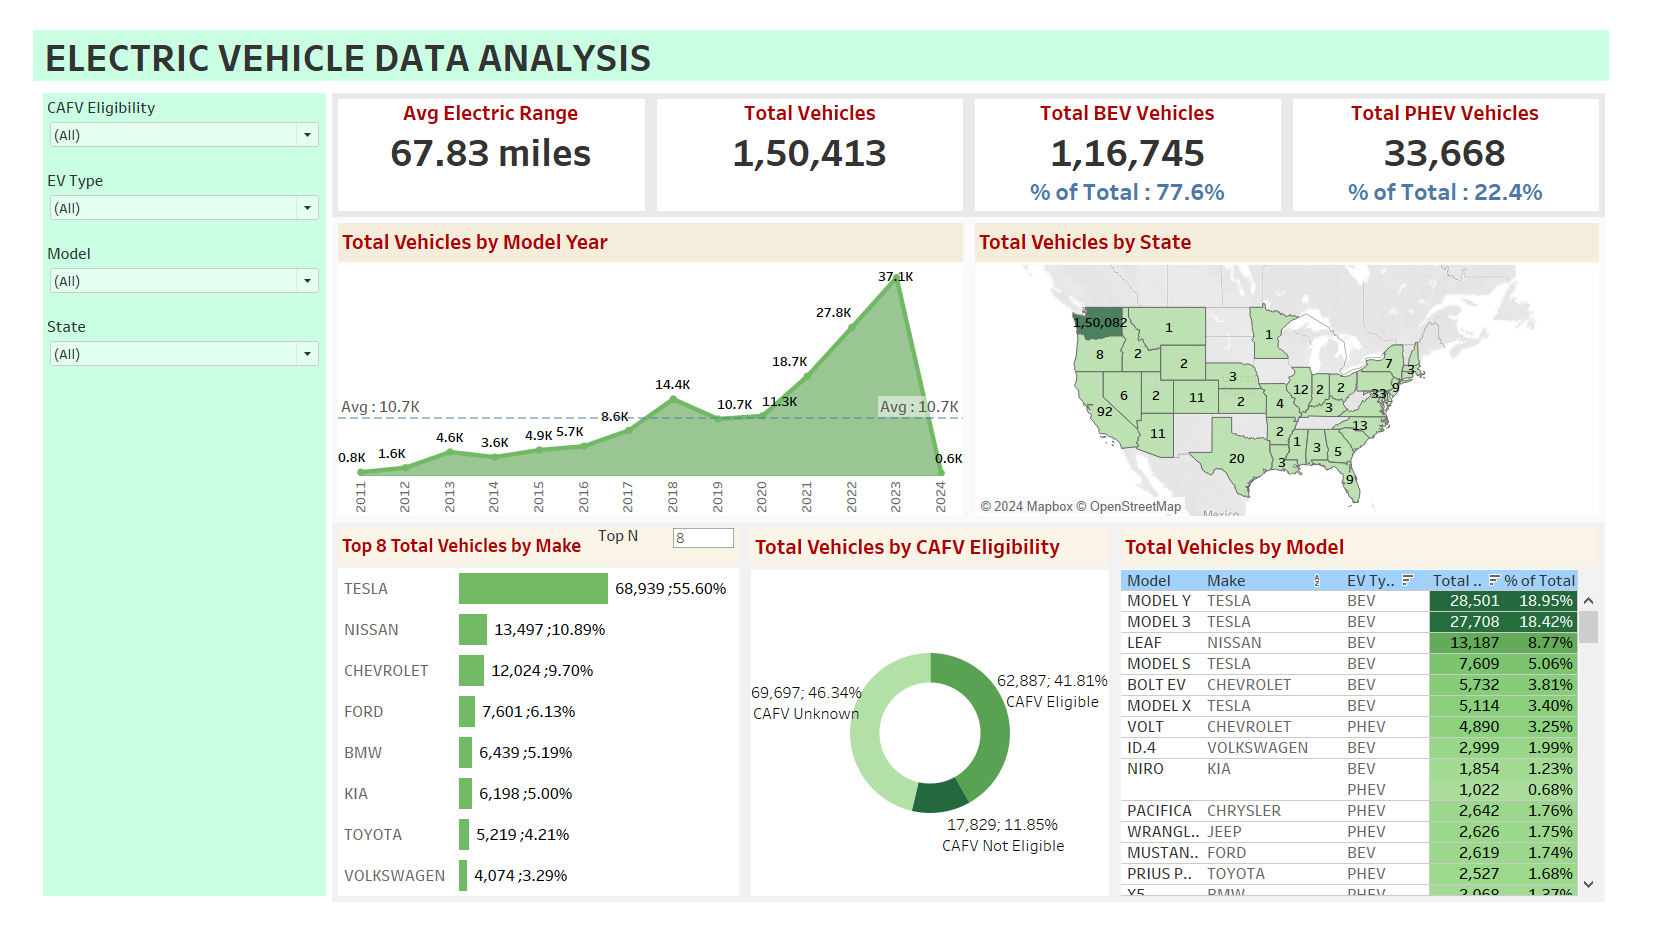

The page's visual inventory and layout, read from the dashboard file:
{"tool":"tableau","page":{"name":"Dashboard 1","canvas":[1600,900],"ordinal":0},"visuals":[{"type":"title","box":[8,8,1584,59.2]},{"type":"filter","title":"Total Vehicles by Model Year","param":"[federated.1awhdub1da7tum1af50ky1ltuime].[none:Clean Alternative Fuel Vehicle (C","box":[22,75,283,73]},{"type":"worksheet","title":"Avg Electric Range","mark":"Automatic","box":[311,75,319,124]},{"type":"worksheet","title":"Total Vehicles","mark":"Automatic","box":[630,75,318,124]},{"type":"worksheet","title":"Total BEV Vehicles","mark":"Automatic","box":[948,75,318,124]},{"type":"worksheet","title":"Total PHEV Vehicles","mark":"Automatic","box":[1266,75,318,124]},{"type":"filter","title":"Total Vehicles by Model Year","param":"[federated.1awhdub1da7tum1af50ky1ltuime].[none:Electric Vehicle Type:nk]","box":[22,148,283,73]},{"type":"worksheet","title":"Total Vehicles by Model Year","mark":"Area","rows":["Calculation_1452692418991345664","Calculation_1452692418991345664"],"cols":["Model Year"],"box":[311,199.2,637,304.8]},{"type":"worksheet","title":"Total Vehicles by State","mark":"Multipolygon","box":[948,199.2,636,304.8]},{"type":"filter","title":"Total Vehicles by Model Year","param":"[federated.1awhdub1da7tum1af50ky1ltuime].[none:Model:nk]","box":[22,221,283,73]},{"type":"filter","title":"Total Vehicles by Model Year","param":"[federated.1awhdub1da7tum1af50ky1ltuime].[none:State:nk]","box":[22,294,283,73]},{"type":"blank","box":[22,367,283,73]},{"type":"blank","box":[22,440,283,73]},{"type":"worksheet","title":"Top 10 Total Vehicles by Make","mark":"Automatic","rows":["Make"],"cols":["Calculation_1452692418991345664"],"box":[311,504,413,380]},{"type":"worksheet","title":"Total Vehicles by CAFV Eligibility","mark":"Pie","rows":["Calculation_1452692419028488199","Calculation_1452692419028488199"],"box":[724,504,370,380]},{"type":"worksheet","title":"Total Vehicles by Model","mark":"Square","rows":["Model","Make","Electric Vehicle Type"],"box":[1094,504,490,380]},{"type":"parameter","param":"[Parameters].[Parameter 1]","box":[577,507,139,38]},{"type":"blank","box":[22,513,283,73]},{"type":"blank","box":[22,586,283,73]},{"type":"blank","box":[22,659,283,73]},{"type":"blank","box":[22,732,283,73]},{"type":"blank","box":[22,805,283,73]}]}

Visuals, with their boxes in screenshot pixels (x1, y1, x2, y2), scaled from the page's 1600x900 canvas onto the 1663x949 screenshot:
title: (x1=8, y1=8, x2=1655, y2=71)
"Total Vehicles by Model Year" filter: (x1=23, y1=79, x2=317, y2=156)
"Avg Electric Range" worksheet: (x1=323, y1=79, x2=655, y2=210)
"Total Vehicles" worksheet: (x1=655, y1=79, x2=985, y2=210)
"Total BEV Vehicles" worksheet: (x1=985, y1=79, x2=1316, y2=210)
"Total PHEV Vehicles" worksheet: (x1=1316, y1=79, x2=1646, y2=210)
"Total Vehicles by Model Year" filter: (x1=23, y1=156, x2=317, y2=233)
"Total Vehicles by Model Year" worksheet (Area marks): (x1=323, y1=210, x2=985, y2=531)
"Total Vehicles by State" worksheet (Multipolygon marks): (x1=985, y1=210, x2=1646, y2=531)
"Total Vehicles by Model Year" filter: (x1=23, y1=233, x2=317, y2=310)
"Total Vehicles by Model Year" filter: (x1=23, y1=310, x2=317, y2=387)
blank: (x1=23, y1=387, x2=317, y2=464)
blank: (x1=23, y1=464, x2=317, y2=541)
"Top 10 Total Vehicles by Make" worksheet: (x1=323, y1=531, x2=753, y2=932)
"Total Vehicles by CAFV Eligibility" worksheet (Pie marks): (x1=753, y1=531, x2=1137, y2=932)
"Total Vehicles by Model" worksheet (Square marks): (x1=1137, y1=531, x2=1646, y2=932)
parameter: (x1=600, y1=535, x2=744, y2=575)
blank: (x1=23, y1=541, x2=317, y2=618)
blank: (x1=23, y1=618, x2=317, y2=695)
blank: (x1=23, y1=695, x2=317, y2=772)
blank: (x1=23, y1=772, x2=317, y2=849)
blank: (x1=23, y1=849, x2=317, y2=926)
